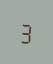three: (19, 19, 31, 44)
